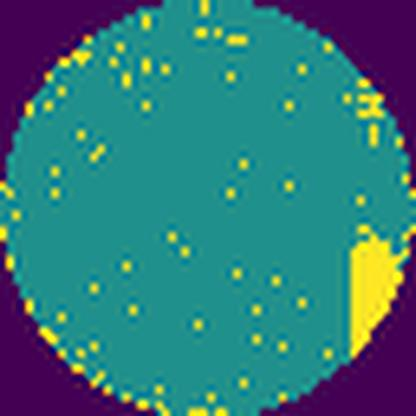Edge-Loc: (348, 223, 406, 366)
